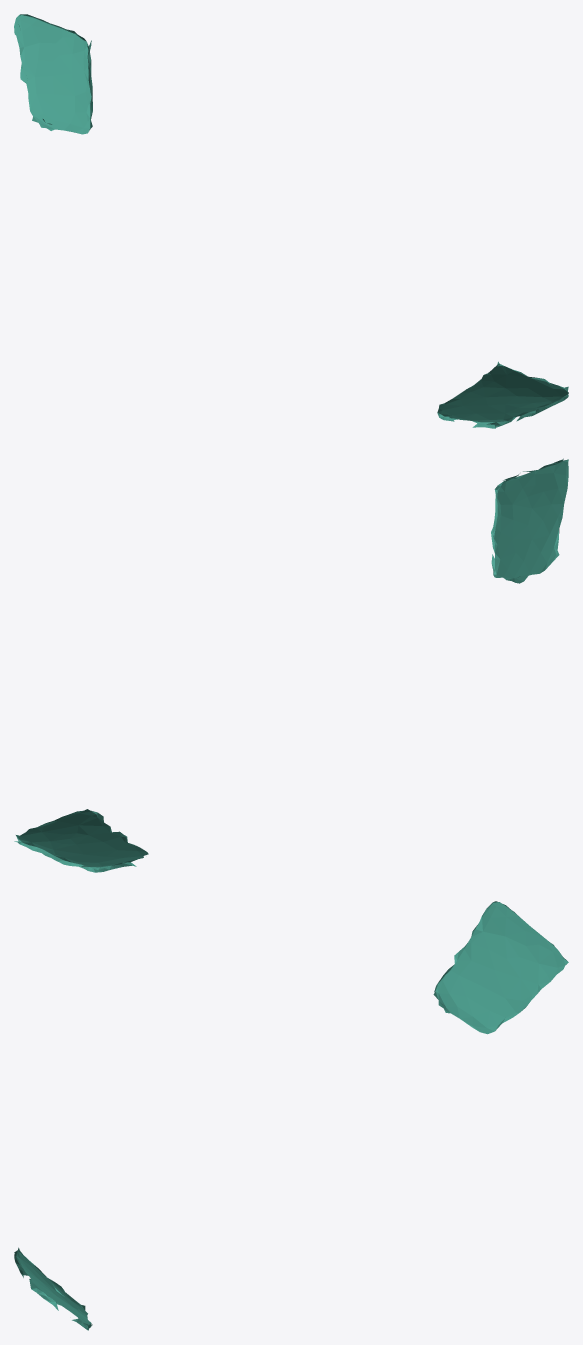
3 views of the same model, one above another, from view 1: azimuth 30°, elevation 25°; view 2: azimuth 150°, elevation 25°; view 3: azimuth 330°, elevation 25° (orthographic).
Visible parts, largest first — view 1: 929.obj; view 2: 929.obj; view 3: 929.obj.
Part boxes in pixels (bbox=[...]): 929.obj: bbox=[14, 14, 568, 428]; 929.obj: bbox=[14, 458, 568, 872]; 929.obj: bbox=[14, 901, 568, 1330].
Size of the model in its own units: 797 by 784 by 6775.
